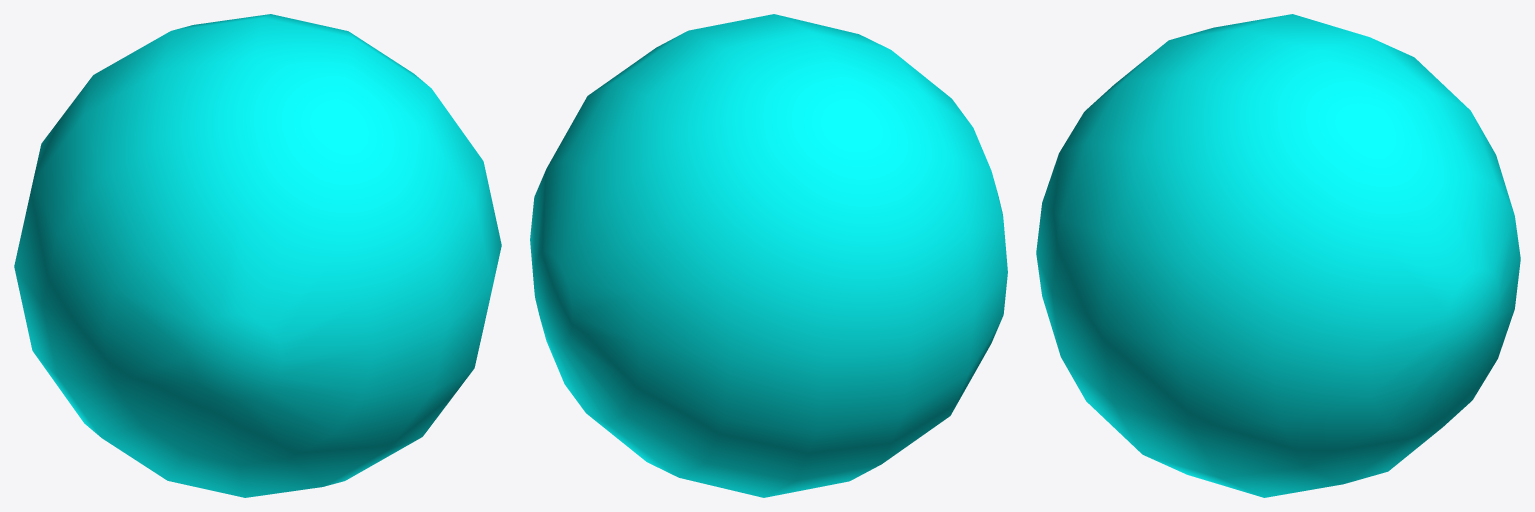
Rendered from MG1_Magazine_Sphere.fbx.
The picture shows the model from 3 angles, left to right: view 1: azimuth 30°, elevation 25°; view 2: azimuth 150°, elevation 25°; view 3: azimuth 270°, elevation 25°; orthographic projection.
Parts seen in each view (by area): view 1: MG1_Magazine_Sphere; view 2: MG1_Magazine_Sphere; view 3: MG1_Magazine_Sphere.
Boxes of the visible parts, x1,y1,x2,y2 form: MG1_Magazine_Sphere: [14, 14, 501, 497]; MG1_Magazine_Sphere: [530, 14, 1007, 497]; MG1_Magazine_Sphere: [1036, 14, 1520, 497].
Size of the model in its own units: 3.62 by 3.55 by 3.62.
